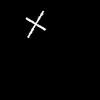single_crochet: (26, 11, 45, 37)
